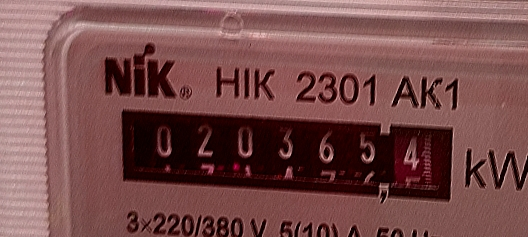0: (234, 122, 256, 160), (152, 122, 175, 158)
2: (191, 121, 217, 158)
3: (274, 123, 296, 160)
4: (400, 134, 422, 170)
5: (355, 130, 378, 164)
6: (315, 127, 337, 164)
screen: (98, 84, 475, 222)
